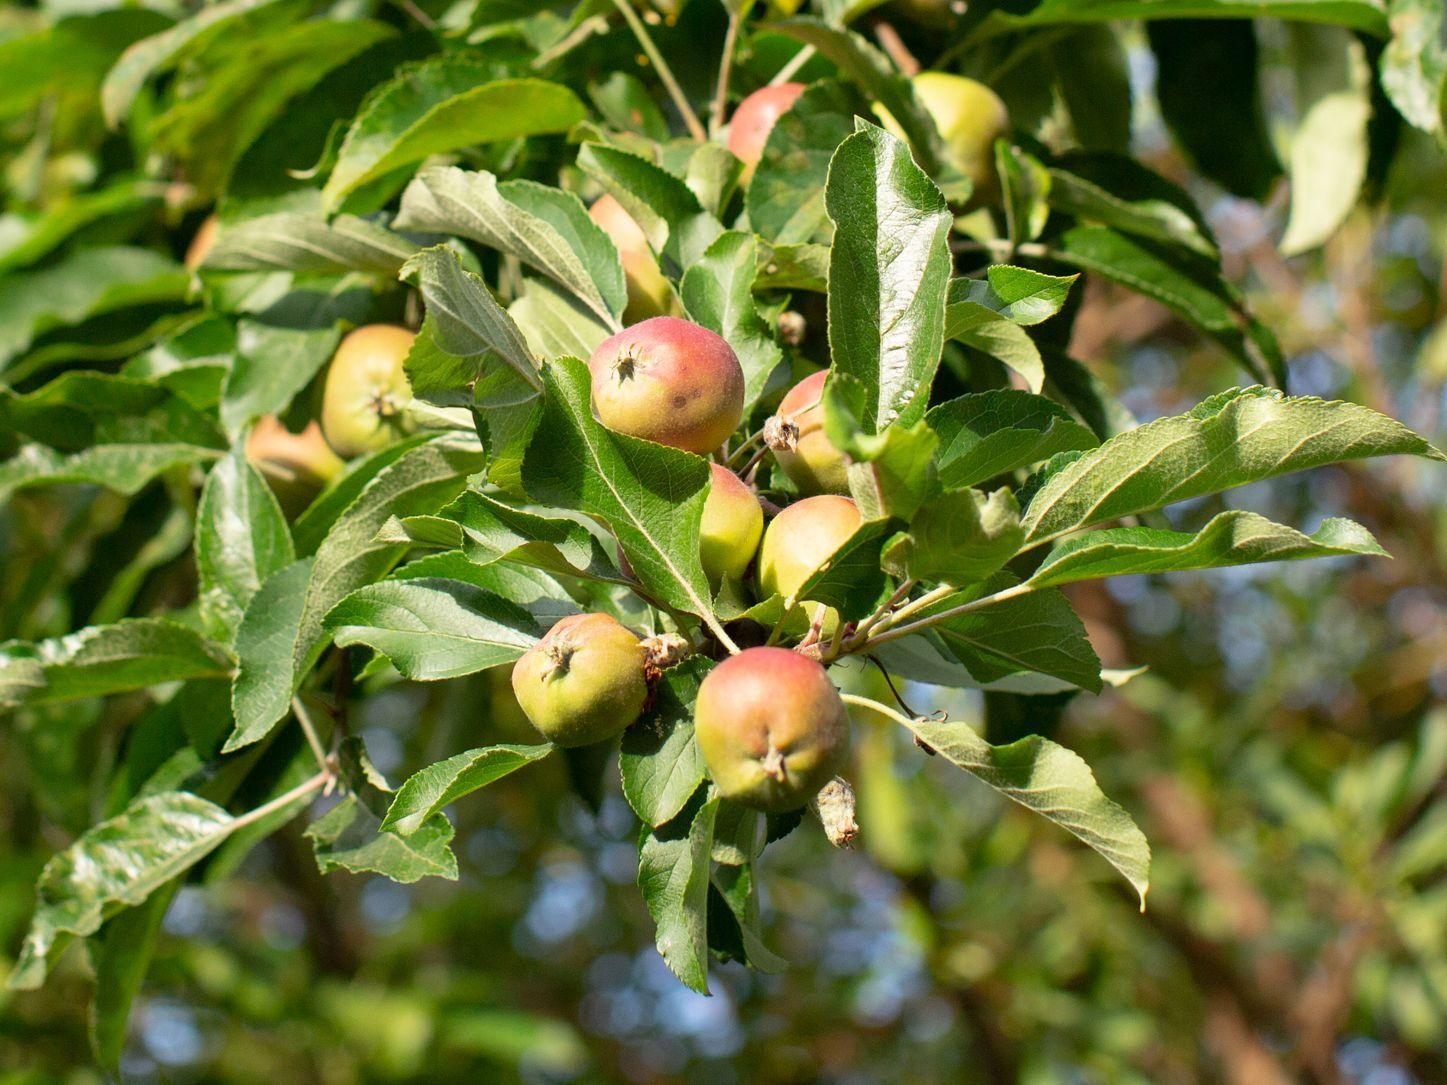apple: (682, 642, 850, 823), (591, 318, 747, 460), (510, 612, 649, 750), (321, 321, 419, 462), (755, 496, 863, 599)
